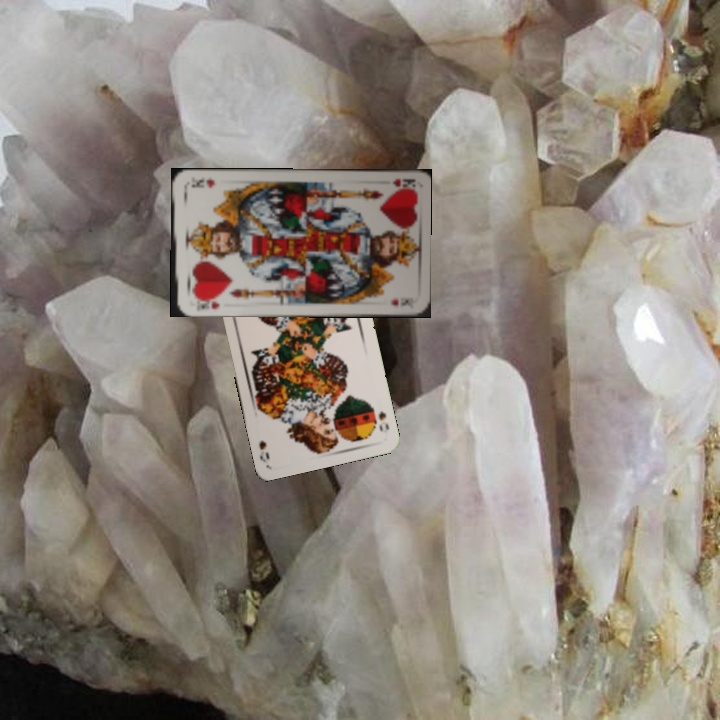HK: (191, 292, 222, 312), (388, 175, 415, 192)
SO: (374, 407, 391, 434)
